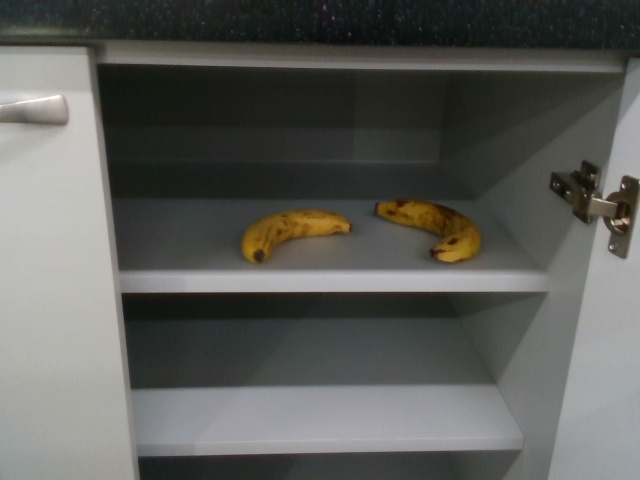banana: (372, 199, 482, 265), (243, 208, 348, 267)
